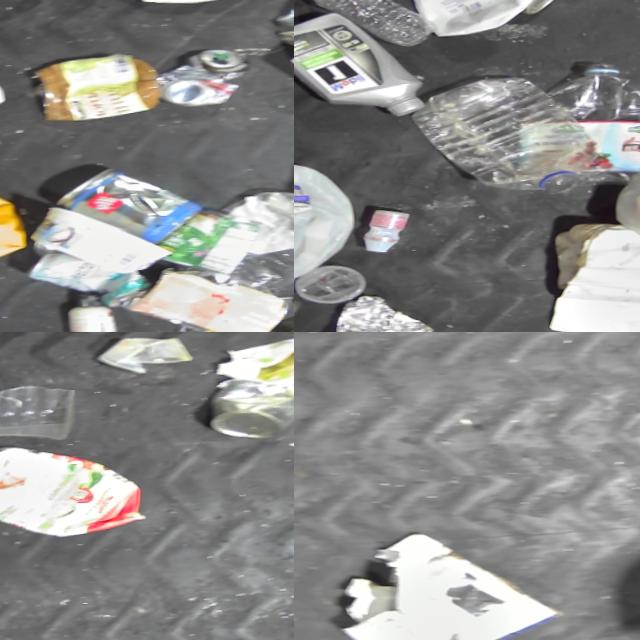can: (43, 161, 204, 247), (23, 243, 152, 310), (150, 47, 254, 109), (201, 373, 294, 438), (148, 210, 243, 269), (323, 292, 436, 332), (477, 0, 563, 17)
milk_jug: (294, 164, 359, 289), (596, 131, 640, 242)
non_white_jug: (0, 438, 149, 539), (294, 22, 433, 117), (0, 126, 37, 294)
plastic_bottle: (413, 86, 594, 198), (532, 59, 640, 177), (297, 0, 433, 50)
